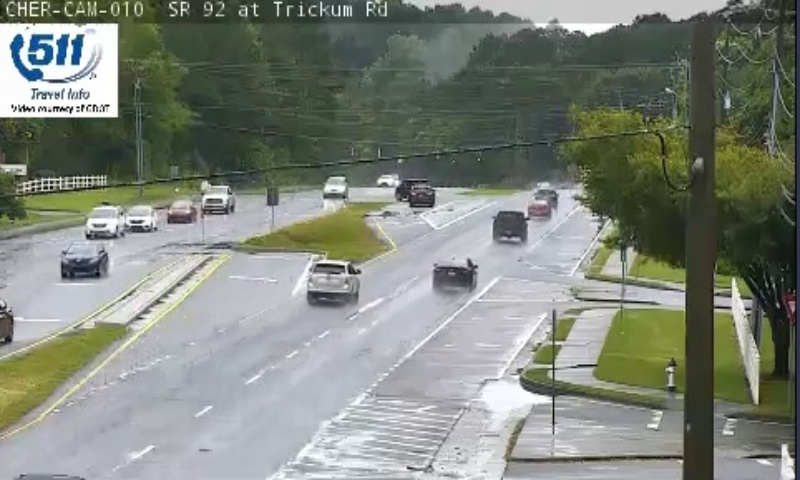car: (307, 259, 358, 301), (433, 256, 478, 286), (492, 209, 526, 238), (529, 198, 551, 218)
